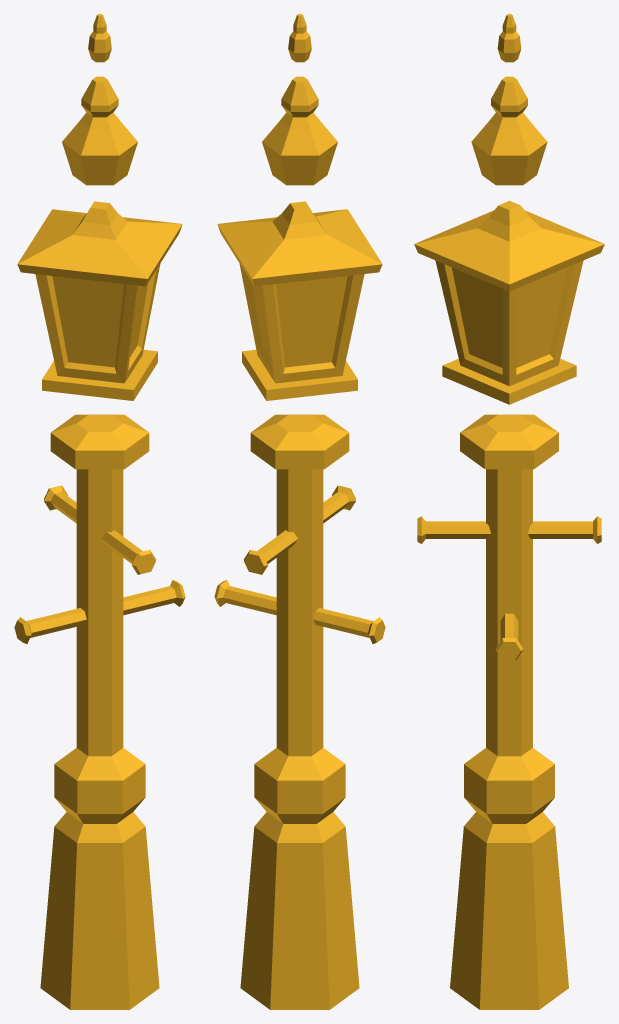
File: lampPost_Evgeniy.fbx
3 views of the same model, side by side, from view 1: azimuth 30°, elevation 25°; view 2: azimuth 150°, elevation 25°; view 3: azimuth 270°, elevation 25° (orthographic).
Visible parts, largest first — view 1: lampPost; view 2: lampPost; view 3: lampPost.
Part boxes in pixels (bbox=[...]): lampPost: bbox=[14, 14, 185, 1009]; lampPost: bbox=[214, 14, 385, 1009]; lampPost: bbox=[414, 14, 604, 1009].
Bounding box in the file's own units: 117 × 657 × 117.
